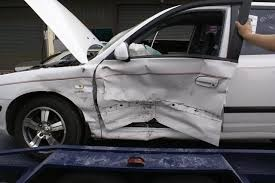Broken-glass: (117, 7, 231, 62)
Dent: (32, 71, 94, 108)
Smashed: (88, 60, 234, 145)
